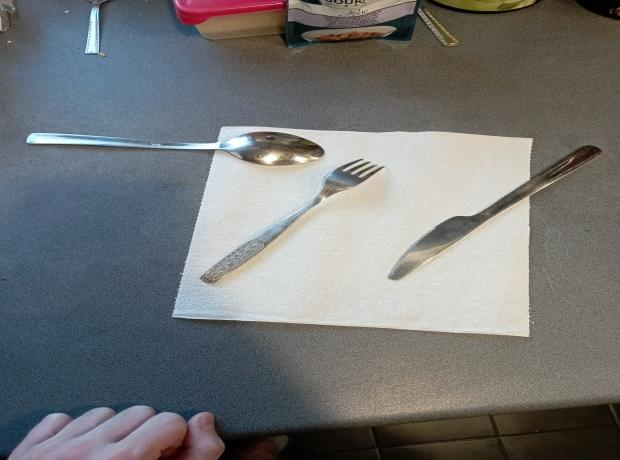metal: (388, 144, 604, 280), (197, 158, 387, 286), (27, 132, 325, 166)
